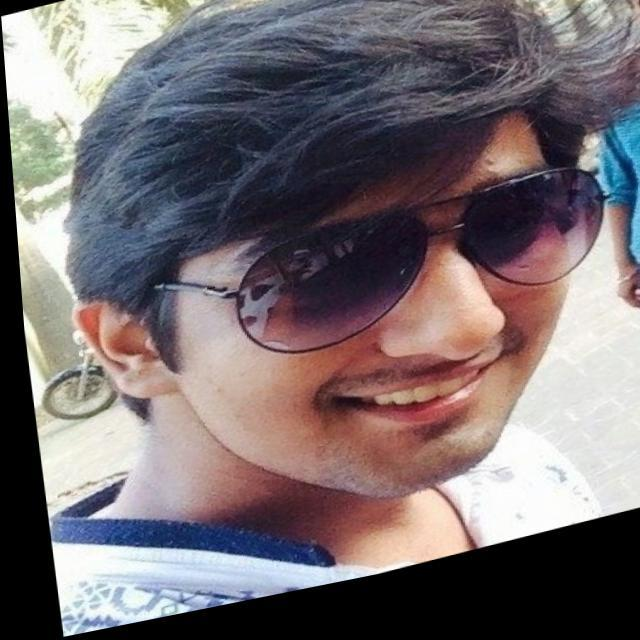Nonhelmet: (55, 0, 612, 500)
